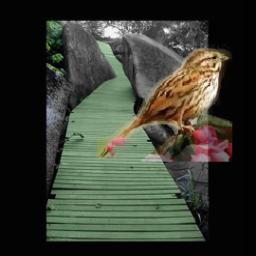Sparrow: (94, 46, 231, 163)
